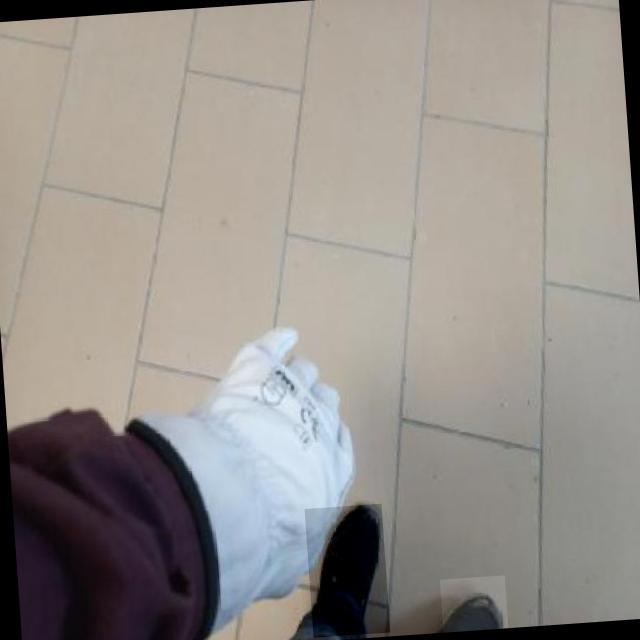Gloves: (128, 324, 396, 620)
Safety Boot: (304, 503, 390, 637), (439, 575, 508, 632)
